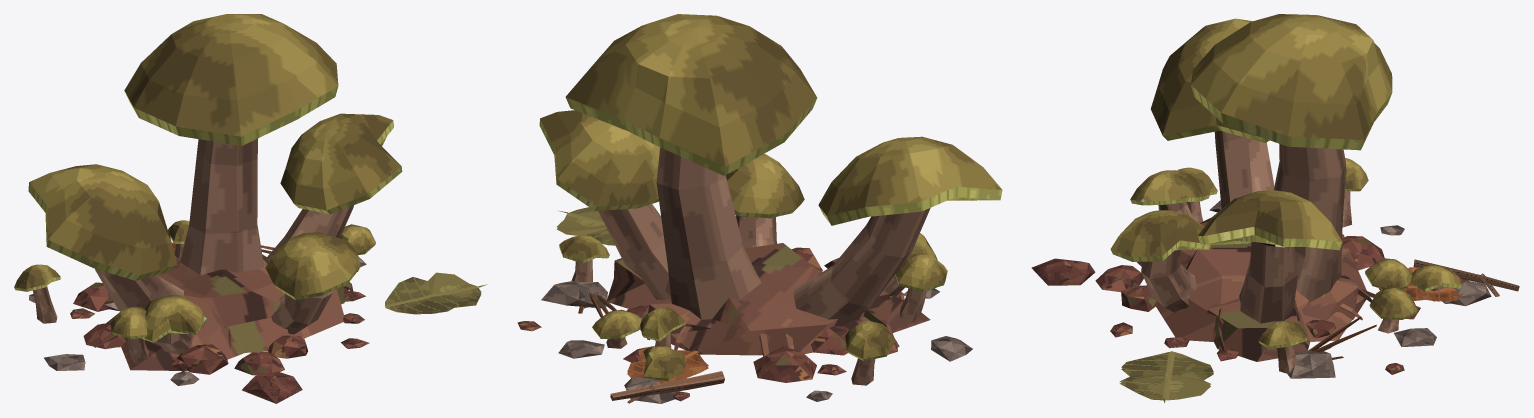
The model's file is SM_AN38_GlowCluster.fbx.
3 renders of one model, left to right at view 1: azimuth 30°, elevation 25°; view 2: azimuth 150°, elevation 25°; view 3: azimuth 270°, elevation 25°, orthographic. The views are drawn at different scales.
Parts seen in each view (by area): view 1: AN38a_Props, AN38a_Root; view 2: AN38a_Props, AN38a_Root; view 3: AN38a_Props, AN38a_Root.
Boxes of the visible parts, box(x1,y1,x2,y2) form: AN38a_Props: box(14, 14, 487, 403); AN38a_Root: box(94, 254, 353, 370); AN38a_Props: box(517, 14, 1002, 403); AN38a_Root: box(607, 243, 930, 356); AN38a_Props: box(1031, 14, 1519, 403); AN38a_Root: box(1156, 218, 1375, 361).
Size of the model in its own units: 1.34 by 0.8105 by 1.24.
